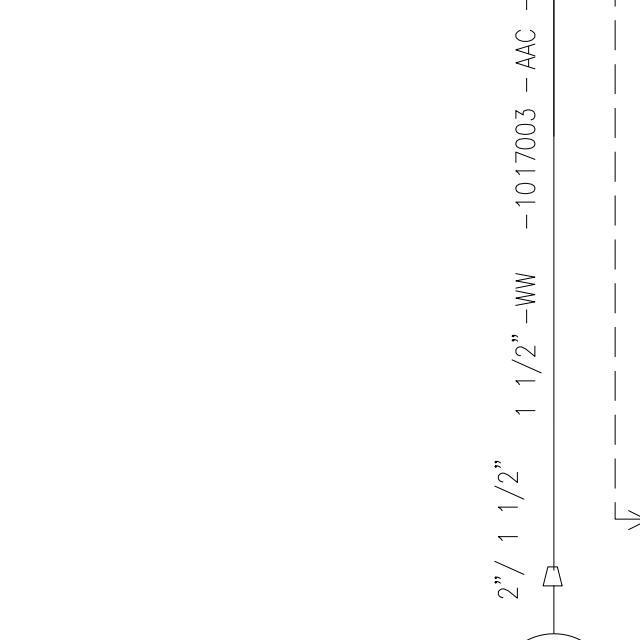SP: (539, 560, 569, 593)
